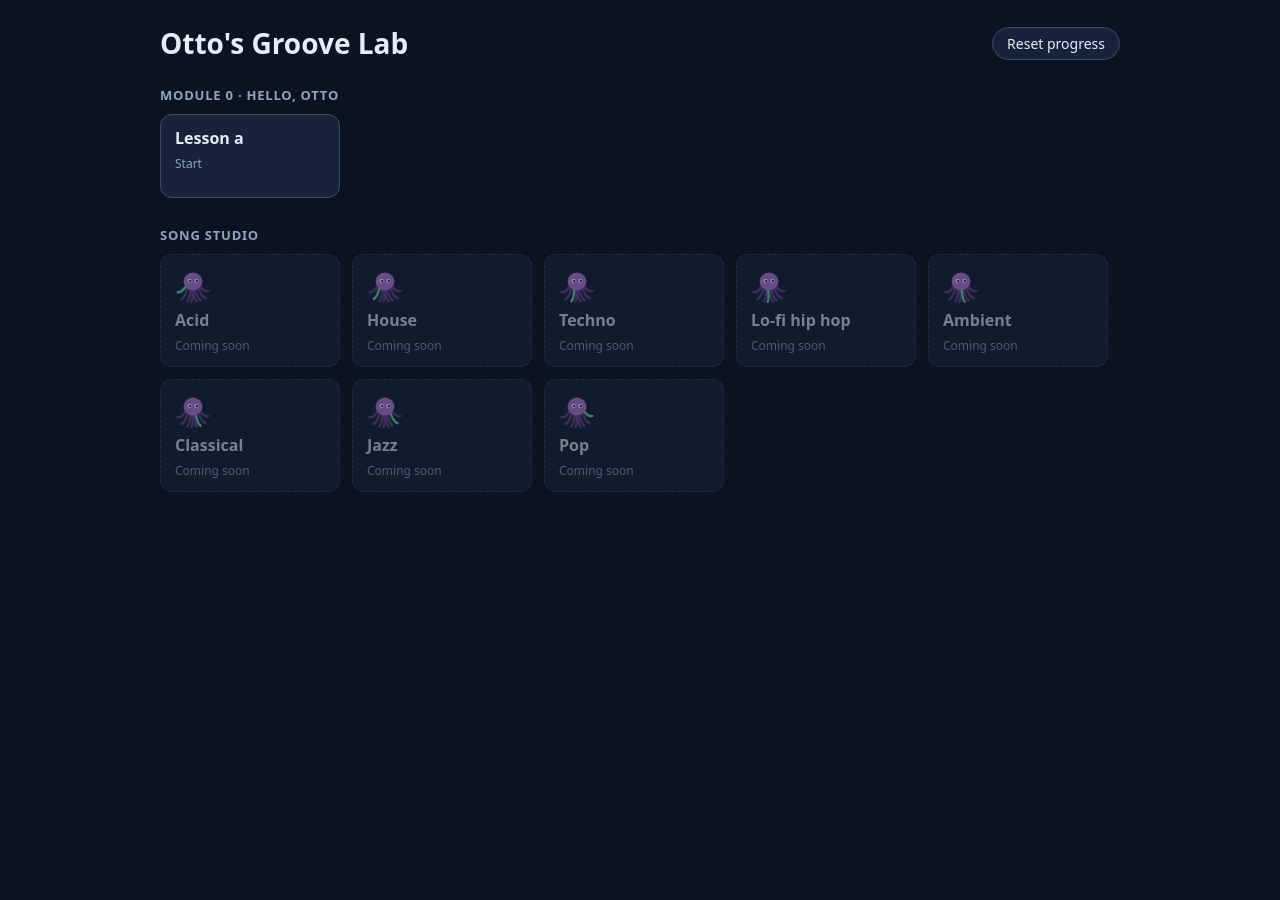
Scenario: CourseMap reset dialog › closes on Escape even when focus has left the dialog, and returns focus
This screenshot has width=1280, height=900.
Click the button "Reset progress" at [1056, 43], box 992,26 -> 1120,60
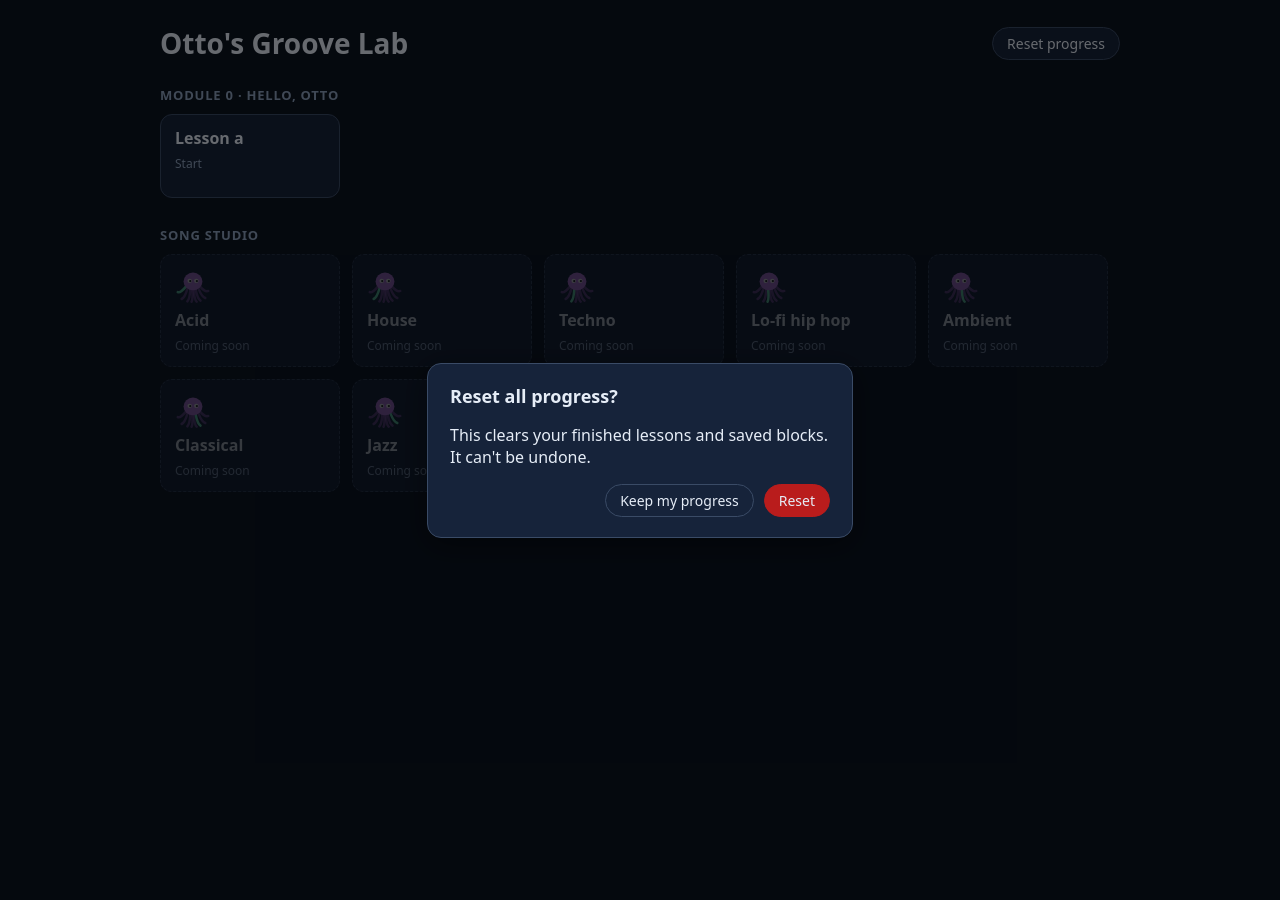
Press Escape
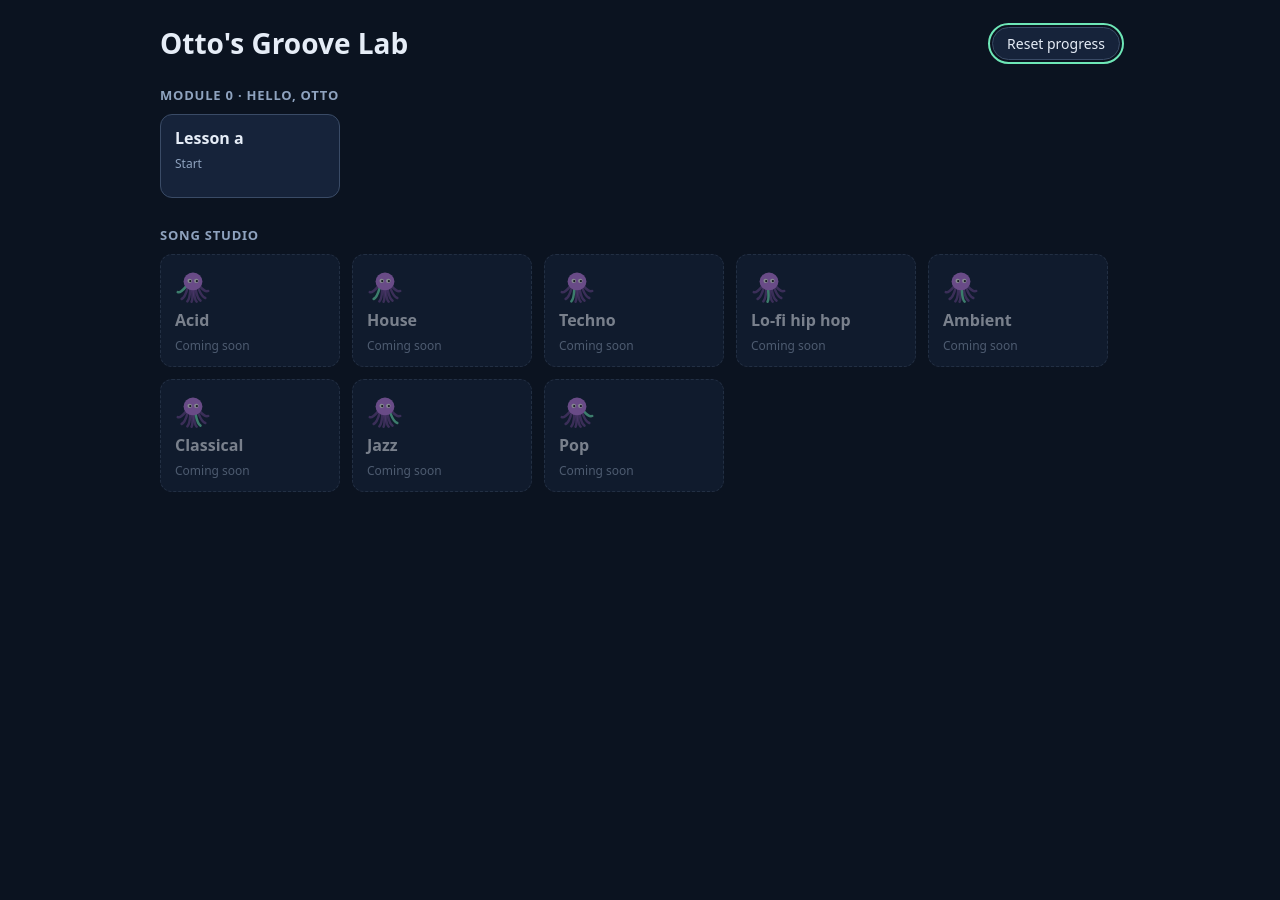
Result: the dialog is gone
